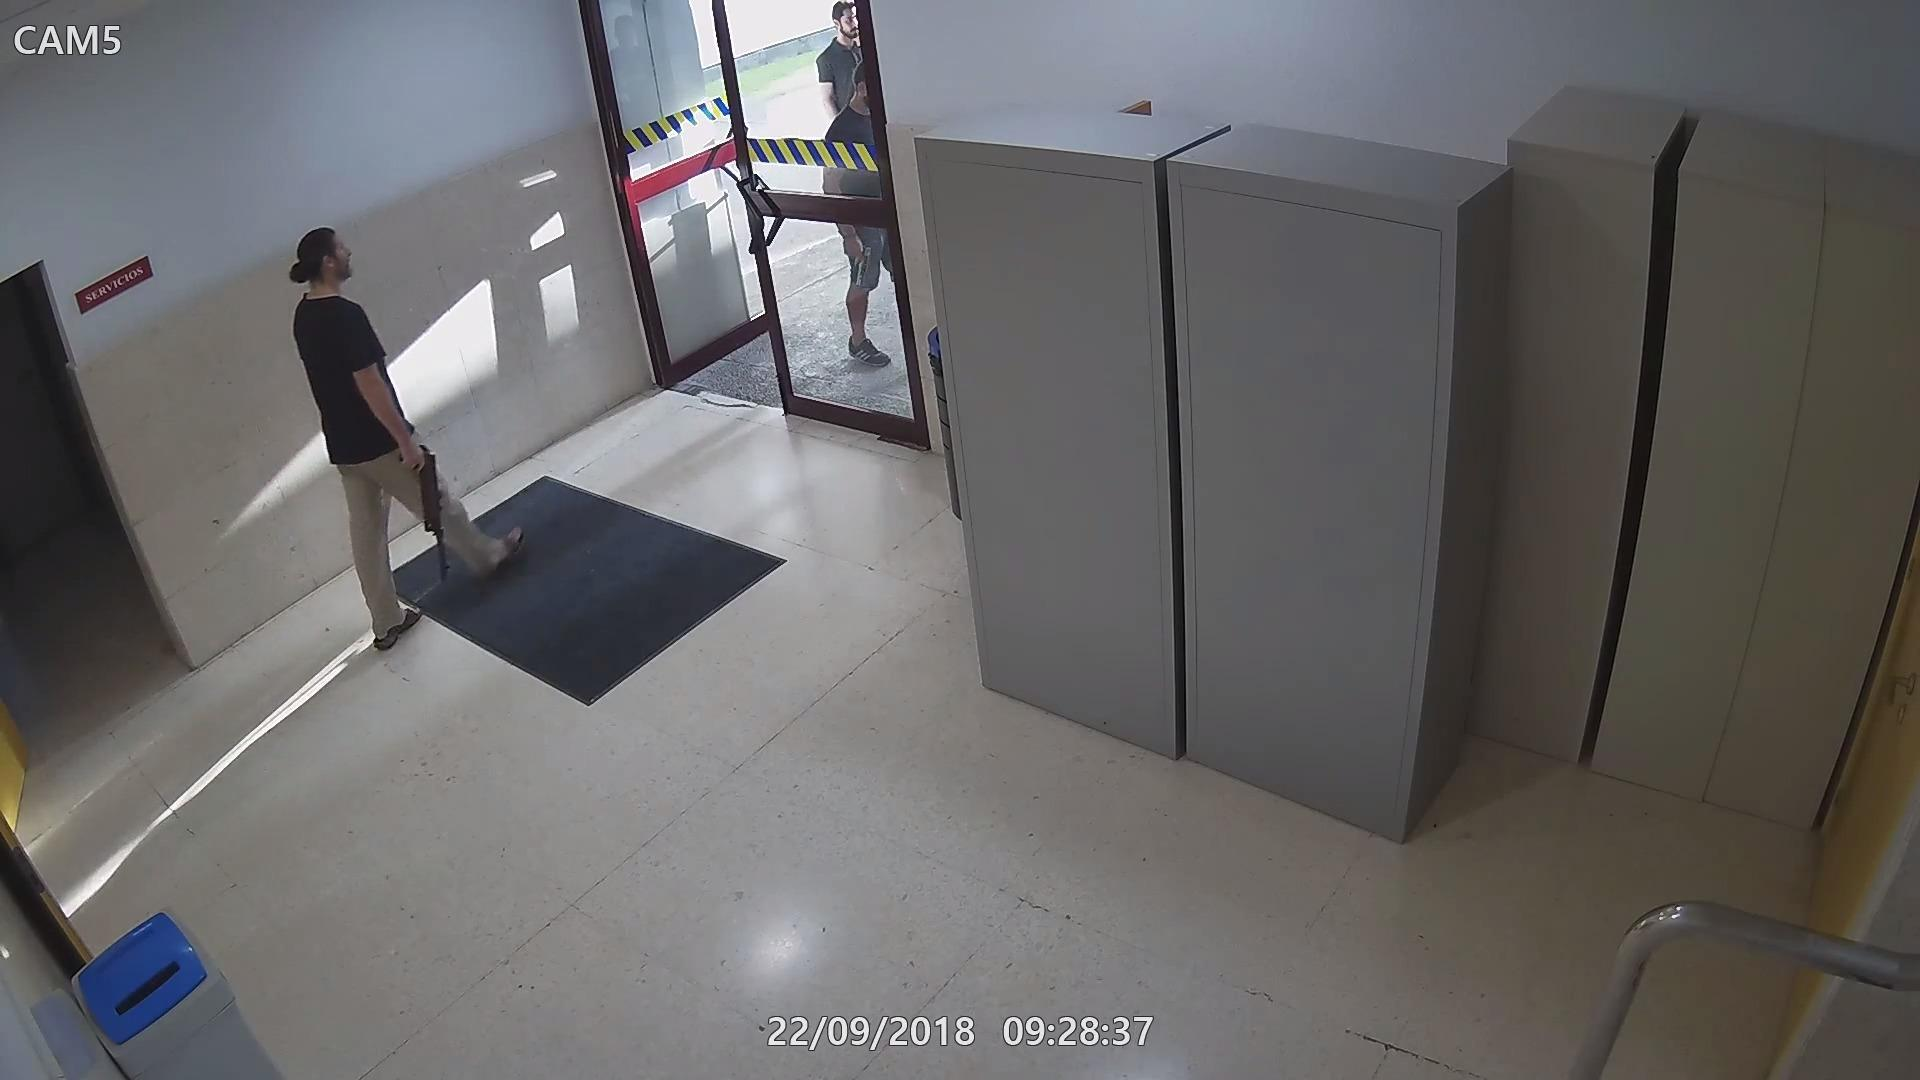Handgun: (831, 239, 877, 303)
